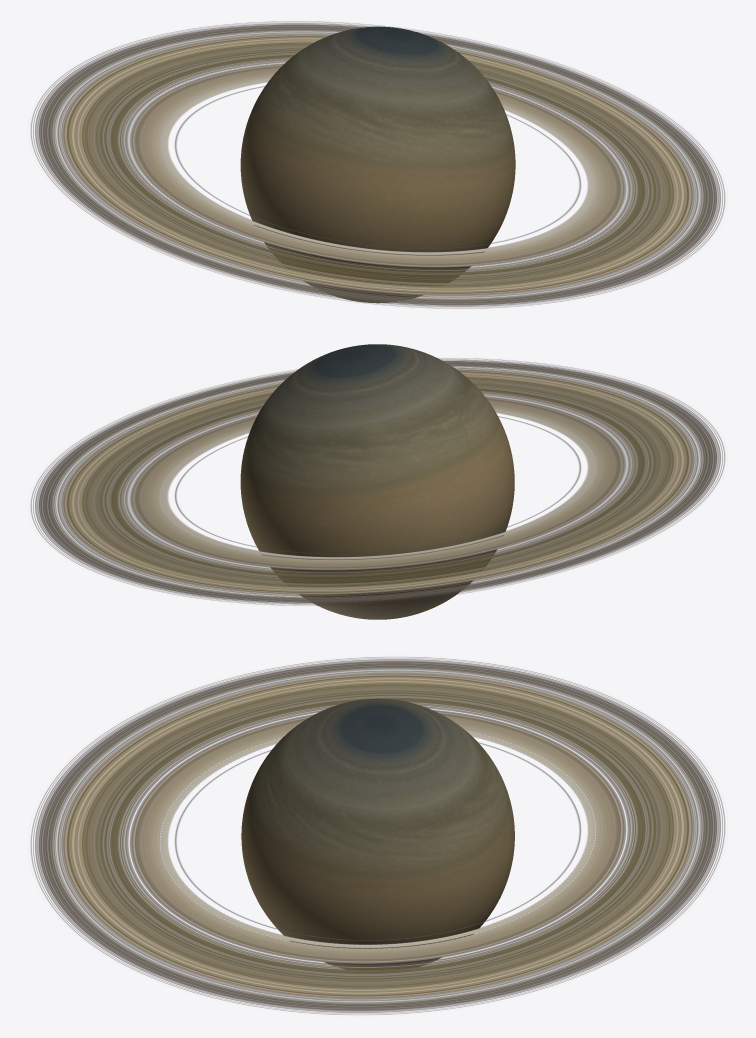
File: saturn.glb
3 renders of one model, top to bottom at view 1: azimuth 30°, elevation 25°; view 2: azimuth 150°, elevation 25°; view 3: azimuth 270°, elevation 25°, orthographic.
Visible parts, largest first — view 1: Saturn_Rings, Saturn_Body; view 2: Saturn_Rings, Saturn_Body; view 3: Saturn_Rings, Saturn_Body.
Boxes of the visible parts, x1=… form: Saturn_Rings: x1=30, y1=21, x2=725, y2=308; Saturn_Body: x1=240, y1=26, x2=515, y2=303; Saturn_Rings: x1=30, y1=358, x2=725, y2=605; Saturn_Body: x1=240, y1=344, x2=514, y2=619; Saturn_Rings: x1=30, y1=657, x2=725, y2=1014; Saturn_Body: x1=241, y1=698, x2=514, y2=969.
Bounding box in the file's own units: 5.23 × 1.99 × 5.25.
2 materials, 2 textured.
